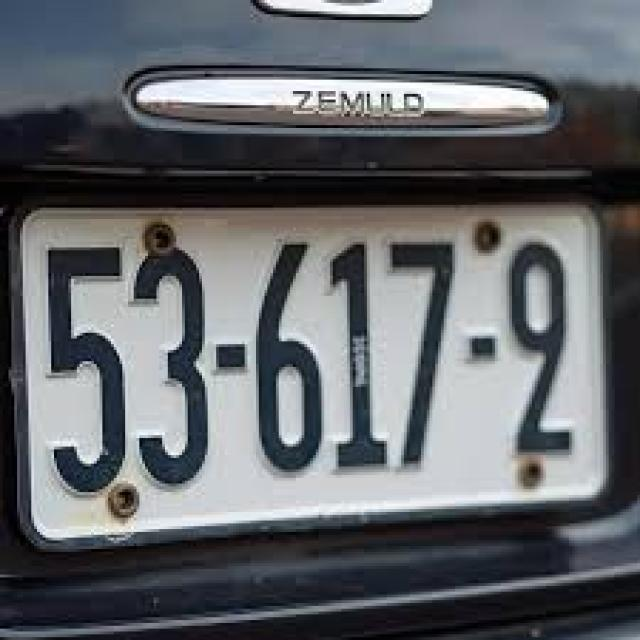bien_so: (21, 205, 621, 552)
